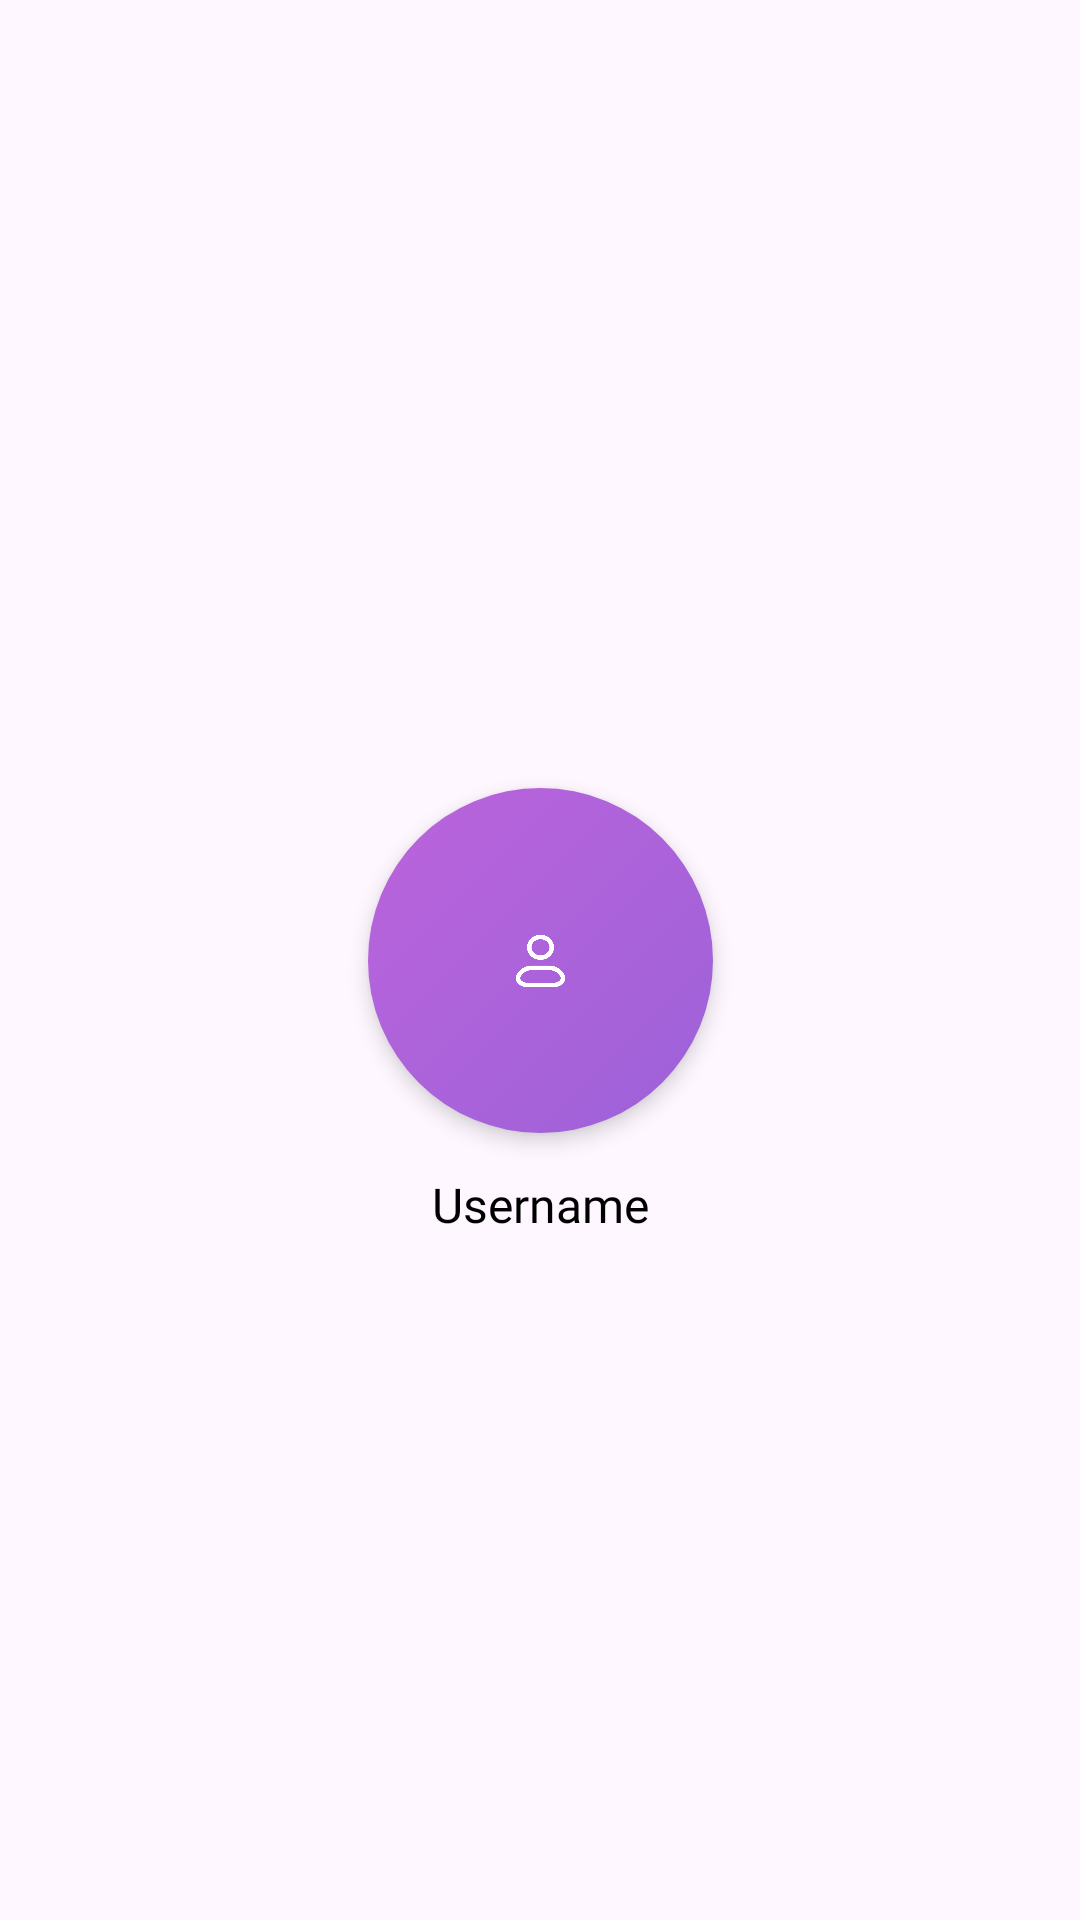

Named icons in this screenshot (1080px x 1920px) and their bounding boxes, (x1, y1, x2, y2):
profile: (368, 788, 713, 1138)
